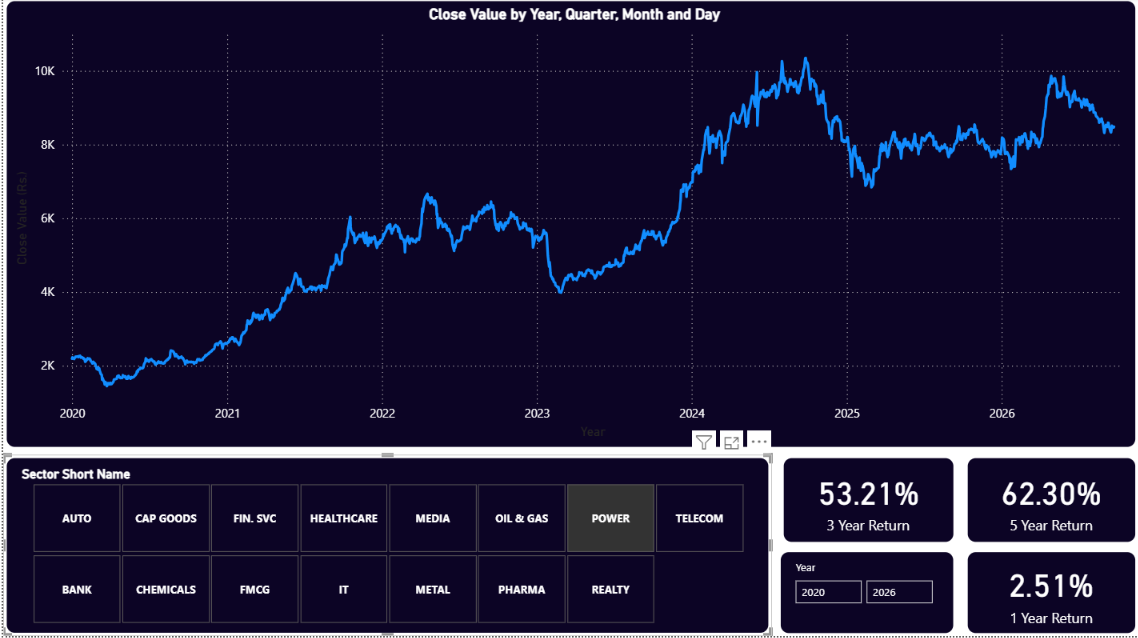

What the dashboard file says about the page in this screenshot:
{"tool":"powerbi","page":{"name":"Page 2","canvas":[1280,720],"ordinal":1},"visuals":[{"type":"lineChart","title":" Close Value by Year, Quarter, Month and Day","fields":{"Category":["Date Table.Date.Variation.Date Hierarchy.Year","Date Table.Date.Variation.Date Hierarchy.Quarter","Date Table.Date.Variation.Date Hierarchy.Month","Date Table.Date.Variation.Date Hierarchy.Day"],"Y":["Max(Combine Data.Close)"]},"box":[0,0,1280.2,510.5],"z":0},{"type":"slicer","fields":{"Values":["Combine Data.Sector Short Name"]},"box":[0,515.1,866.3,204.7],"z":1000},{"type":"slicer","fields":{"Values":["Date Table.Year"]},"box":[872.1,620.9,202.3,98.8],"z":1001},{"type":"card","fields":{"Values":["Combine Data.3 Year Return"]},"box":[875.6,514.5,198.8,102.3],"z":1002},{"type":"card","fields":{"Values":["Combine Data.5 Year Return"]},"box":[1083.7,514.5,196.5,102.3],"z":1003},{"type":"card","fields":{"Values":["Combine Data.1 Year Return"]},"box":[1083.7,620.9,196.5,98.8],"z":1004}]}

Visuals, with their boxes in screenshot pixels (x1, y1, x2, y2), scaled from the page's 1280x720 canvas onto the 1138x638 screenshot:
" Close Value by Year, Quarter, Month and Day" lineChart: box=[0, 0, 1137, 452]
slicer - Combine Data.Sector Short Name: box=[0, 456, 770, 637]
slicer - Date Table.Year: box=[775, 550, 955, 637]
card - Combine Data.3 Year Return: box=[778, 456, 955, 547]
card - Combine Data.5 Year Return: box=[963, 456, 1137, 547]
card - Combine Data.1 Year Return: box=[963, 550, 1137, 637]
